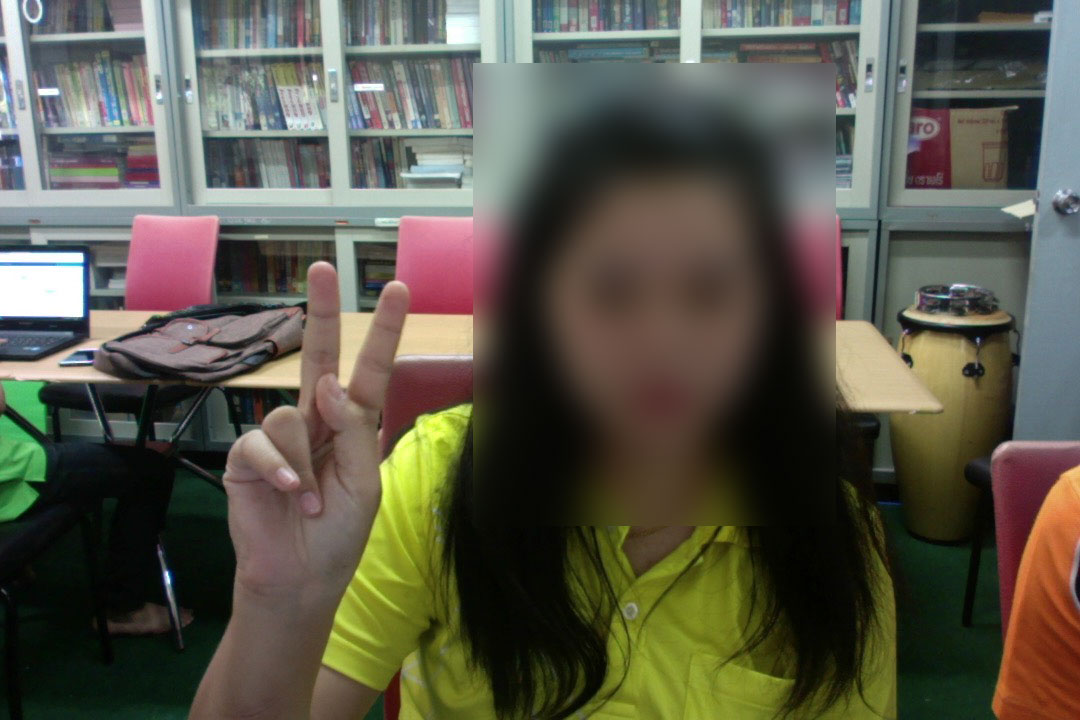ko: (203, 257, 437, 595)
